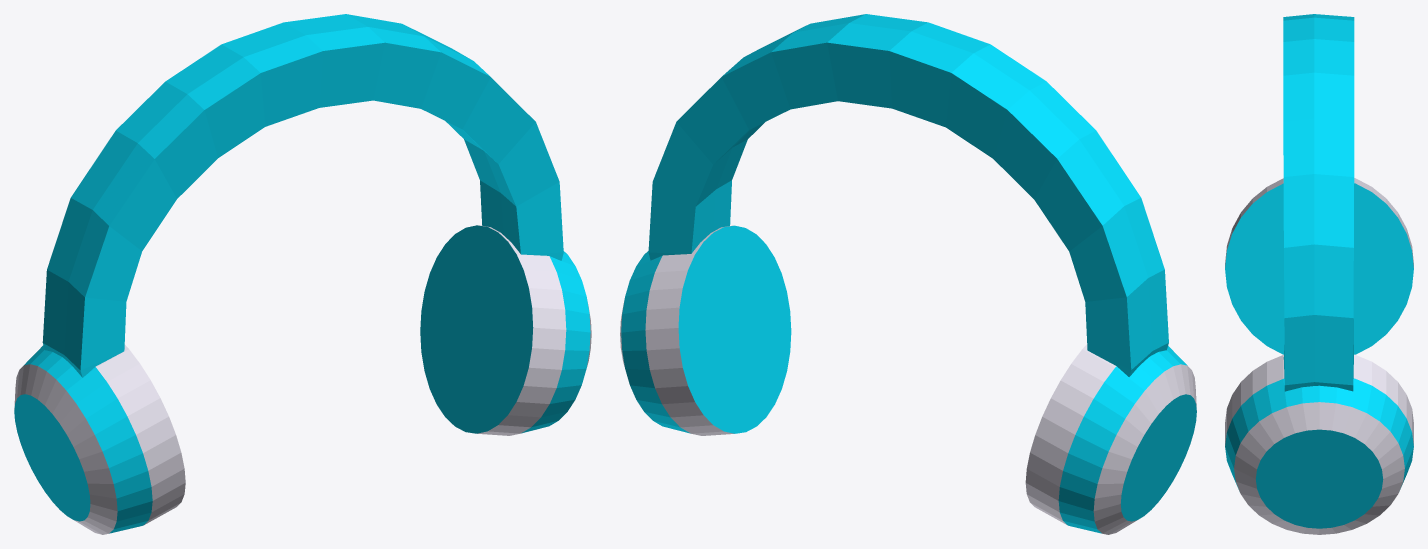
Rendered from HeadPhones.fbx.
3 views of the same model, side by side, from view 1: azimuth 30°, elevation 25°; view 2: azimuth 150°, elevation 25°; view 3: azimuth 270°, elevation 25° (orthographic). The views are drawn at different scales.
Visible parts, largest first — view 1: HeadPhone, HeadPhone_Ear; view 2: HeadPhone, HeadPhone_Ear; view 3: HeadPhone_Ear, HeadPhone.
Part boxes in pixels (box(x1,y1,x2,y2)): HeadPhone: box(42, 14, 563, 377); HeadPhone_Ear: box(14, 225, 591, 534); HeadPhone: box(648, 14, 1168, 376); HeadPhone_Ear: box(620, 225, 1196, 534); HeadPhone_Ear: box(1225, 178, 1413, 534); HeadPhone: box(1283, 14, 1354, 391).
Size of the model in its own units: 51.99 by 41.37 by 17.7.
